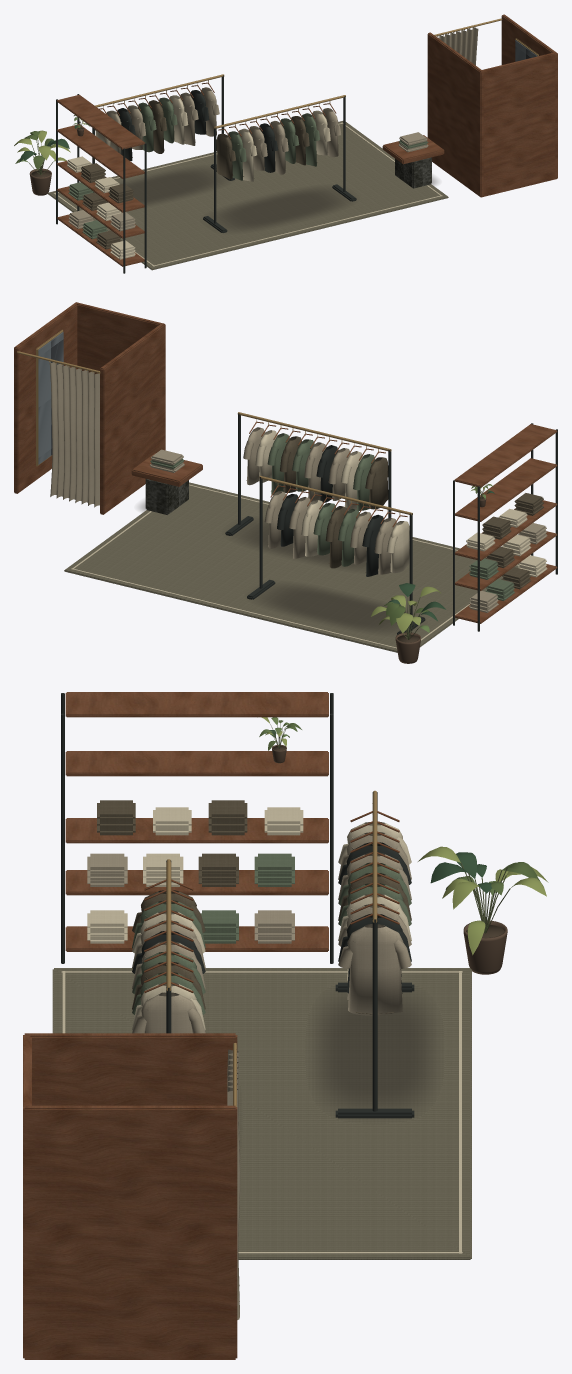
Rendered from shop.glb.
The picture shows the model from 3 angles, top to bottom: view 1: azimuth 30°, elevation 25°; view 2: azimuth 150°, elevation 25°; view 3: azimuth 270°, elevation 25°; orthographic projection. The views are drawn at different scales.
Parts seen in each view (by area): view 1: M03 | Quarter-cut walnut.001, M08 | Undyed rug.001, Contact | Diffuse grounding.001, M08 | Oyster basketweave.001, M08 | Natural flax.001, M06 | Blackened steel.001, M08 | Moss linen.001, M08 | Umber tweed.001, Hardware | Dark bronze.001, M01 | Honed charcoal stone.001, M08 | Leaf 3.001, Ceramics | Iron glaze.001; view 2: M08 | Undyed rug.001, M03 | Quarter-cut walnut.001, M08 | Oyster basketweave.001, M08 | Natural flax.001, M06 | Blackened steel.001, Contact | Diffuse grounding.001, M08 | Moss linen.001, M08 | Umber tweed.001, M07 | Brushed silvered glass, Hardware | Dark bronze.001, M01 | Honed charcoal stone.001, M08 | Leaf 3.001 (+1 smaller); view 3: M03 | Quarter-cut walnut.001, M08 | Undyed rug.001, M08 | Oyster basketweave.001, Contact | Diffuse grounding.001, M08 | Natural flax.001, M06 | Blackened steel.001, M08 | Umber tweed.001, M08 | Moss linen.001, M08 | Leaf 3.001, Hardware | Dark bronze.001, Ceramics | Iron glaze.001, M08 | Leaf 0.001 (+1 smaller).
Boxes of the visible parts, <box> form: M03 | Quarter-cut walnut.001: <box>56,14,557,266</box>; M08 | Undyed rug.001: <box>47,121,448,270</box>; Contact | Diffuse grounding.001: <box>121,168,437,230</box>; M08 | Oyster basketweave.001: <box>68,27,478,231</box>; M08 | Natural flax.001: <box>53,95,442,266</box>; M06 | Blackened steel.001: <box>56,75,356,273</box>; M08 | Moss linen.001: <box>68,97,428,239</box>; M08 | Umber tweed.001: <box>81,100,338,249</box>; Hardware | Dark bronze.001: <box>95,18,538,130</box>; M01 | Honed charcoal stone.001: <box>395,157,431,188</box>; M08 | Leaf 3.001: <box>14,119,84,161</box>; Ceramics | Iron glaze.001: <box>29,127,84,195</box>; M08 | Undyed rug.001: <box>64,482,518,652</box>; M03 | Quarter-cut walnut.001: <box>14,302,557,623</box>; M08 | Oyster basketweave.001: <box>49,361,547,612</box>; M08 | Natural flax.001: <box>71,430,547,648</box>; M06 | Blackened steel.001: <box>225,413,557,634</box>; Contact | Diffuse grounding.001: <box>139,501,406,632</box>; M08 | Moss linen.001: <box>150,433,514,600</box>; M08 | Umber tweed.001: <box>246,436,543,589</box>; M07 | Brushed silvered glass: <box>38,332,63,464</box>; Hardware | Dark bronze.001: <box>17,329,412,516</box>; M01 | Honed charcoal stone.001: <box>145,479,188,514</box>; M08 | Leaf 3.001: <box>371,479,492,633</box>; M03 | Quarter-cut walnut.001: <box>23,692,399,1359</box>; M08 | Undyed rug.001: <box>52,968,471,1259</box>; M08 | Oyster basketweave.001: <box>87,832,411,1319</box>; Contact | Diffuse grounding.001: <box>316,993,433,1107</box>; M08 | Natural flax.001: <box>61,807,462,1253</box>; M06 | Blackened steel.001: <box>61,693,414,1118</box>; M08 | Umber tweed.001: <box>97,800,411,1014</box>; M08 | Moss linen.001: <box>132,853,411,1014</box>; M08 | Leaf 3.001: <box>261,717,548,955</box>; Hardware | Dark bronze.001: <box>166,790,377,1106</box>; Ceramics | Iron glaze.001: <box>272,744,507,974</box>; M08 | Leaf 0.001: <box>270,730,491,893</box>.
Bounding box in the file's own units: 8.65 × 2.46 × 4.62.
19 materials, 9 textured.
